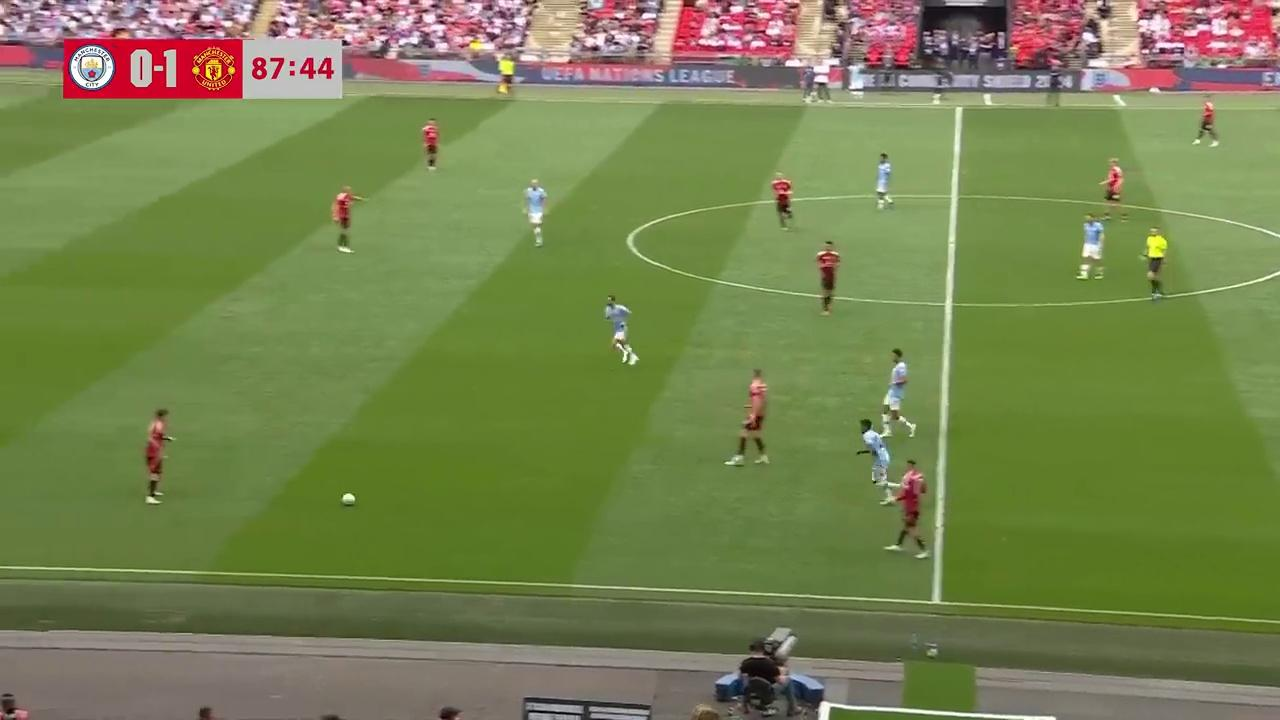ball: (340, 489, 357, 506)
player: (883, 457, 929, 558), (726, 368, 770, 466), (880, 348, 916, 438), (853, 417, 894, 495), (143, 408, 175, 504), (604, 294, 639, 365), (330, 184, 366, 252), (1076, 213, 1106, 280), (1141, 225, 1167, 301), (815, 239, 840, 316), (523, 179, 547, 247), (1099, 158, 1124, 215), (1192, 97, 1218, 147), (771, 175, 793, 229), (875, 152, 893, 210), (422, 118, 439, 170)
referee: (815, 239, 840, 316), (771, 175, 793, 229), (497, 55, 515, 98)
